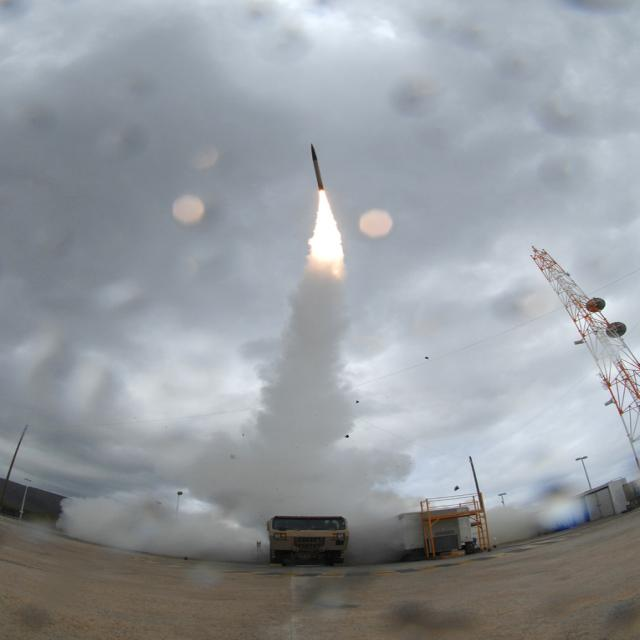rocket: (300, 138, 341, 276)
